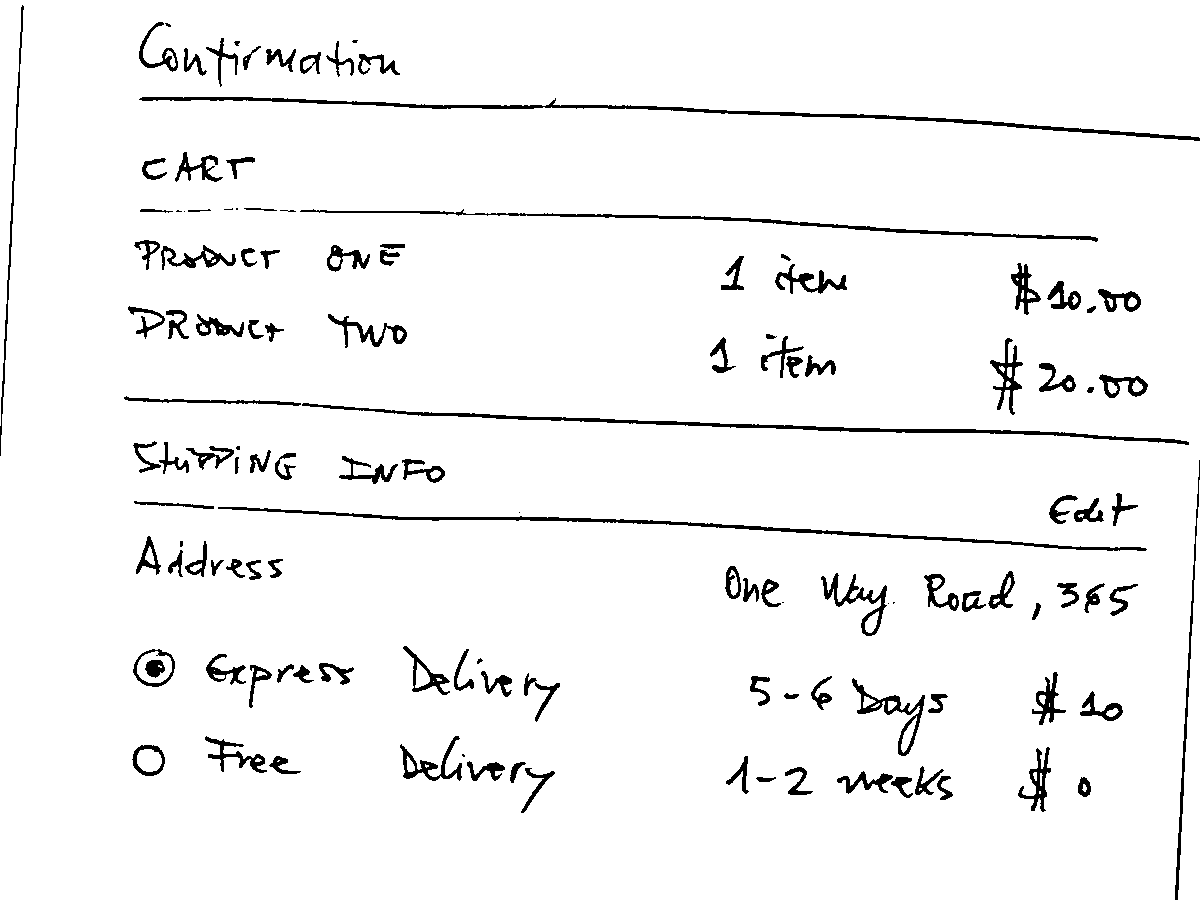Radio Button: (129, 639, 357, 712), (121, 723, 301, 787)
